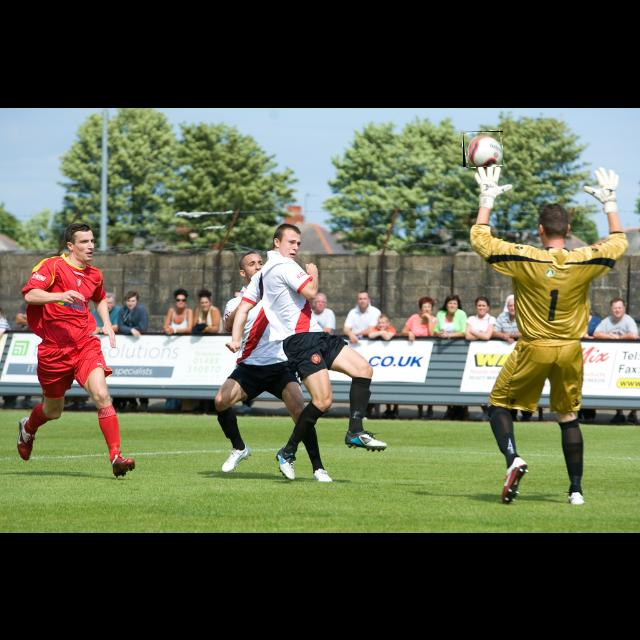Football: (463, 131, 503, 167)
